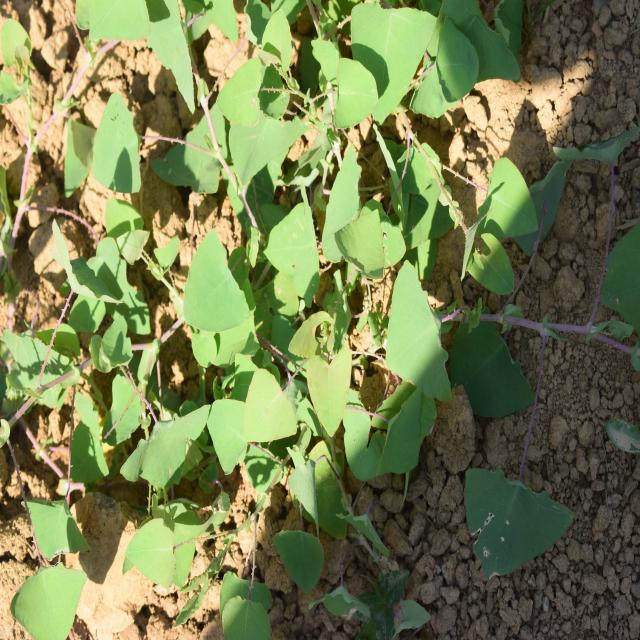Asiatic_Smartweed: (159, 222, 324, 488), (452, 417, 576, 590), (212, 38, 331, 208), (5, 488, 105, 640)
